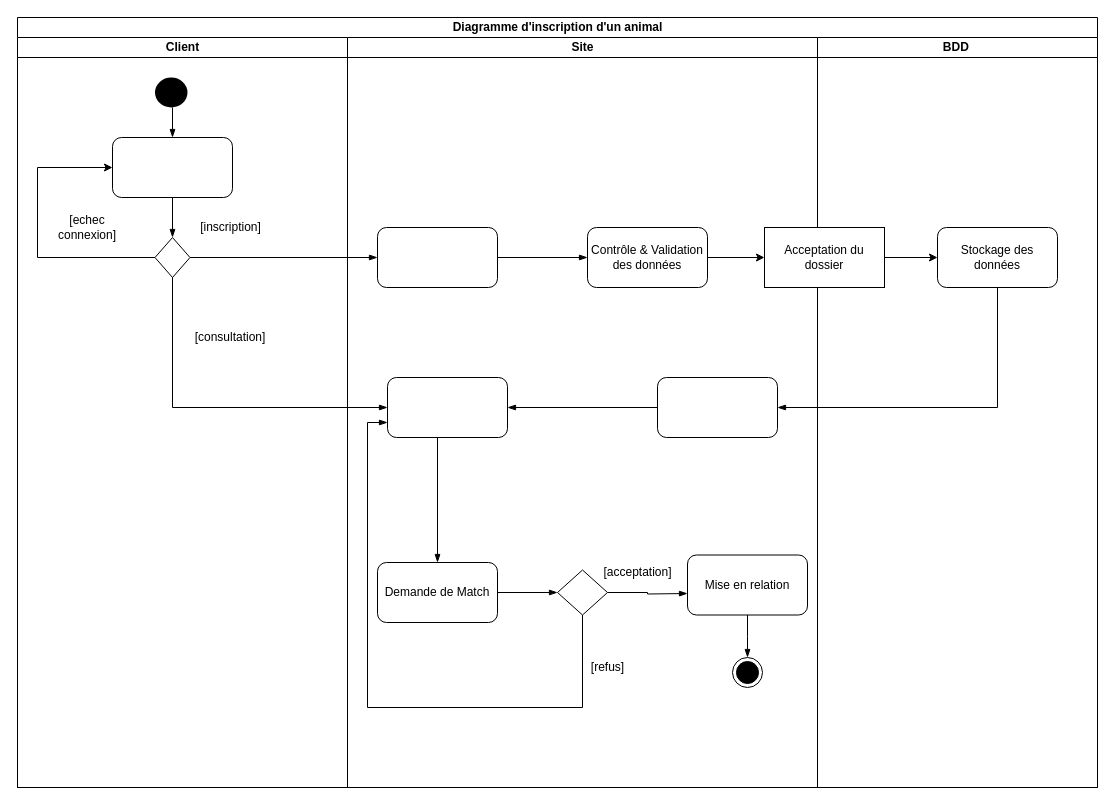
The diagram is 1115 pixels wide and 805 high, and some of its shapes have lost their labels. Here are the shapes that lost their labels. From the top down, the centre of each, then its label:
At pixel 172 167: "connexion au site".
At pixel 437 257: "S'incrire".
At pixel 447 407: "Consulter les animaux".
At pixel 717 407: "Affichage du nouvel animal sur le site".
